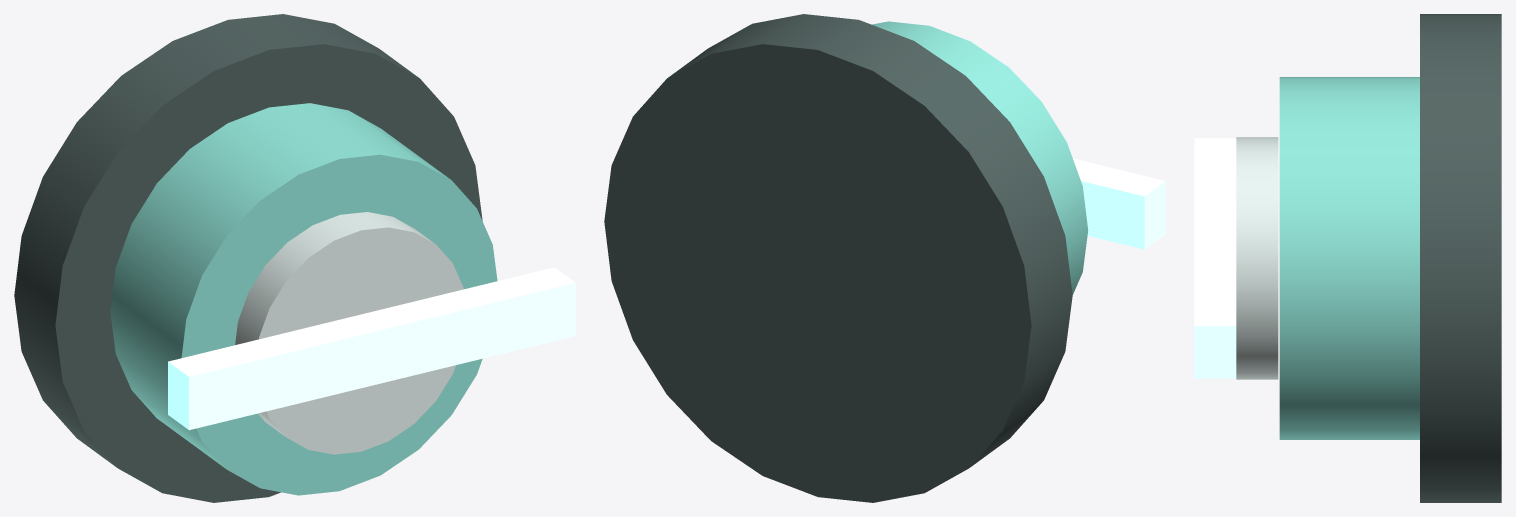
File: lidar_fast.glb
3 views of the same model, side by side, from view 1: azimuth 30°, elevation 25°; view 2: azimuth 150°, elevation 25°; view 3: azimuth 270°, elevation 25° (orthographic).
Visible parts, largest first — view 1: base, scanner, scan_bar, cap; view 2: base, scanner, scan_bar; view 3: scanner, base, cap, scan_bar.
Part boxes in pixels (<box>): base: <box>14,14,482,502</box>; scanner: <box>110,103,497,495</box>; scan_bar: <box>168,267,575,430</box>; cap: <box>235,212,463,454</box>; base: <box>604,14,1072,502</box>; scanner: <box>872,21,1088,294</box>; scan_bar: <box>1073,158,1165,249</box>; scanner: <box>1279,77,1419,439</box>; base: <box>1420,14,1501,502</box>; cap: <box>1236,137,1278,379</box>; scan_bar: <box>1194,138,1236,378</box>.
Size of the model in its own units: 0.21 by 0.21 by 0.1315.
